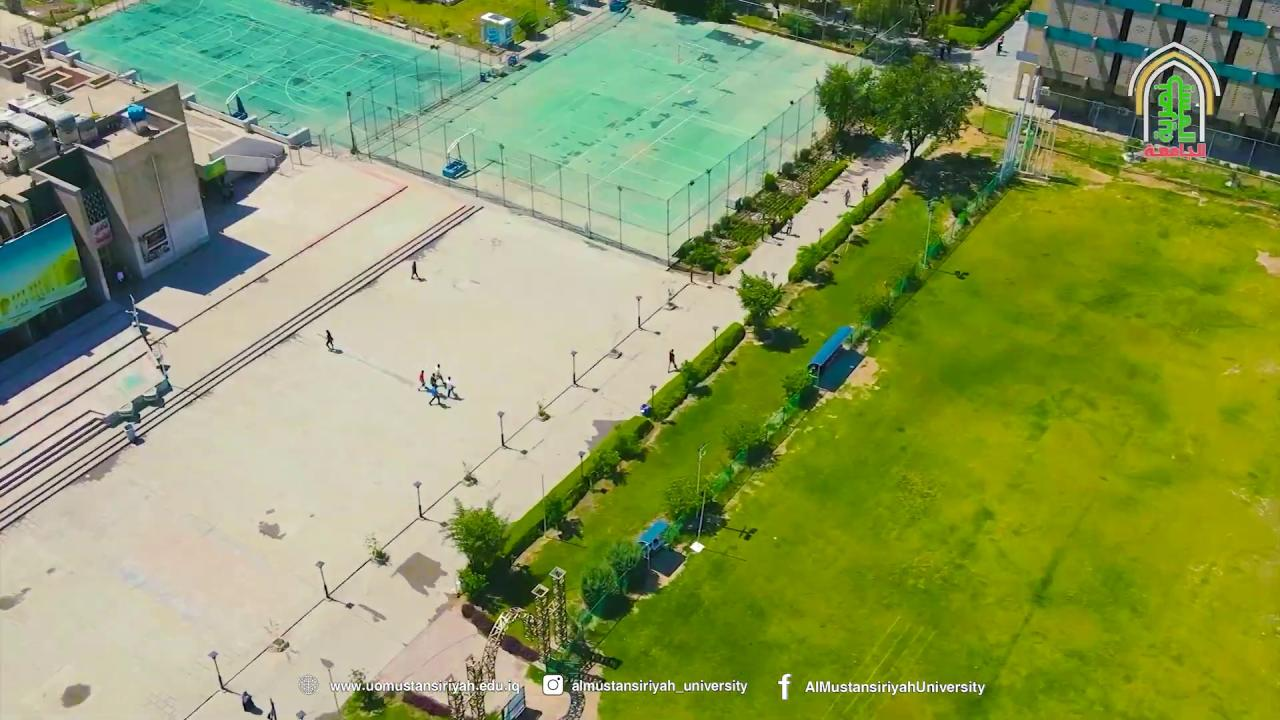person: (444, 375, 461, 400), (667, 349, 678, 371), (325, 329, 334, 351), (418, 370, 427, 391), (410, 260, 419, 279), (861, 178, 869, 197), (785, 215, 793, 234), (640, 402, 650, 417), (843, 188, 851, 206), (938, 42, 946, 60), (996, 34, 1003, 53)
tree: (485, 565, 622, 718), (865, 52, 987, 162), (446, 606, 523, 719), (814, 60, 873, 158), (441, 494, 511, 573), (520, 568, 573, 668), (736, 269, 785, 331), (672, 235, 728, 284), (721, 417, 772, 465), (580, 563, 622, 618), (605, 537, 642, 595), (661, 476, 701, 522), (346, 668, 386, 713), (586, 447, 622, 490), (852, 286, 886, 328), (779, 366, 814, 405), (852, 0, 892, 33), (454, 564, 488, 602), (926, 9, 965, 42), (542, 491, 568, 529), (780, 11, 814, 39), (910, 1, 935, 39), (363, 531, 390, 566), (678, 358, 701, 393), (597, 446, 622, 477), (705, 0, 731, 23), (535, 399, 550, 421)
